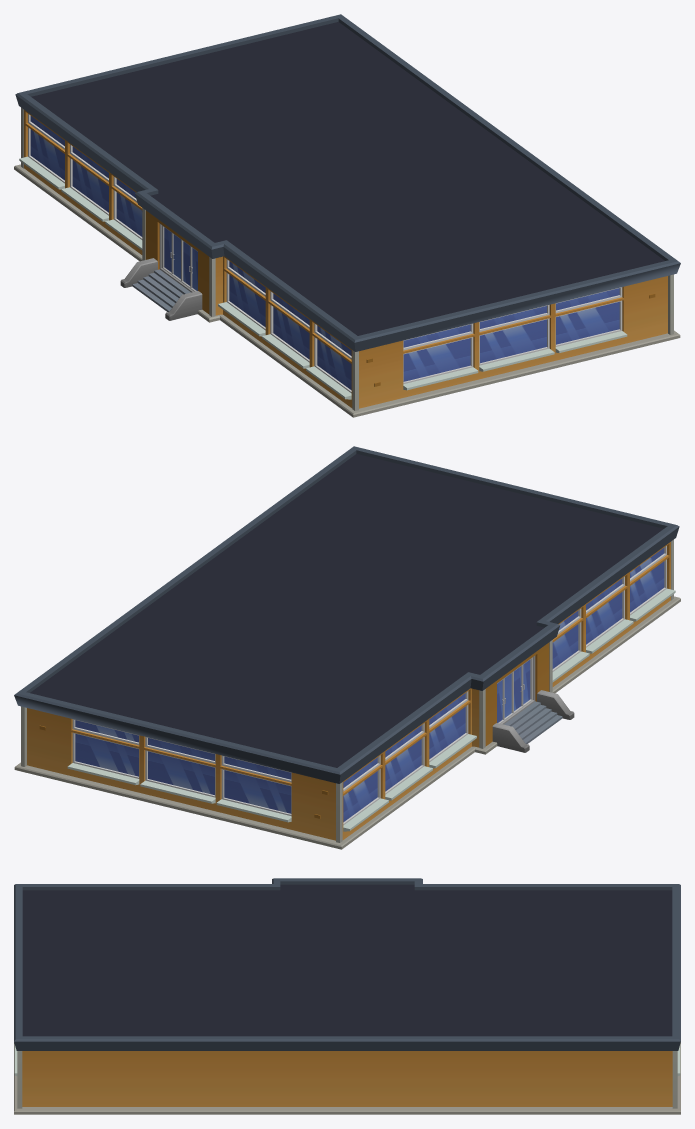
The model's file is Building_16_1_B.fbx.
The picture shows the model from 3 angles, top to bottom: view 1: azimuth 30°, elevation 25°; view 2: azimuth 150°, elevation 25°; view 3: azimuth 270°, elevation 25°; orthographic projection.
Parts seen in each view (by area): view 1: Building_16_1_B; view 2: Building_16_1_B; view 3: Building_16_1_B.
Boxes of the visible parts, x1,y1,x2,y2 form: Building_16_1_B: (14,14,680,417); Building_16_1_B: (14,446,680,849); Building_16_1_B: (14,878,680,1114).
Size of the model in its own units: 1888 by 375 by 3026.
